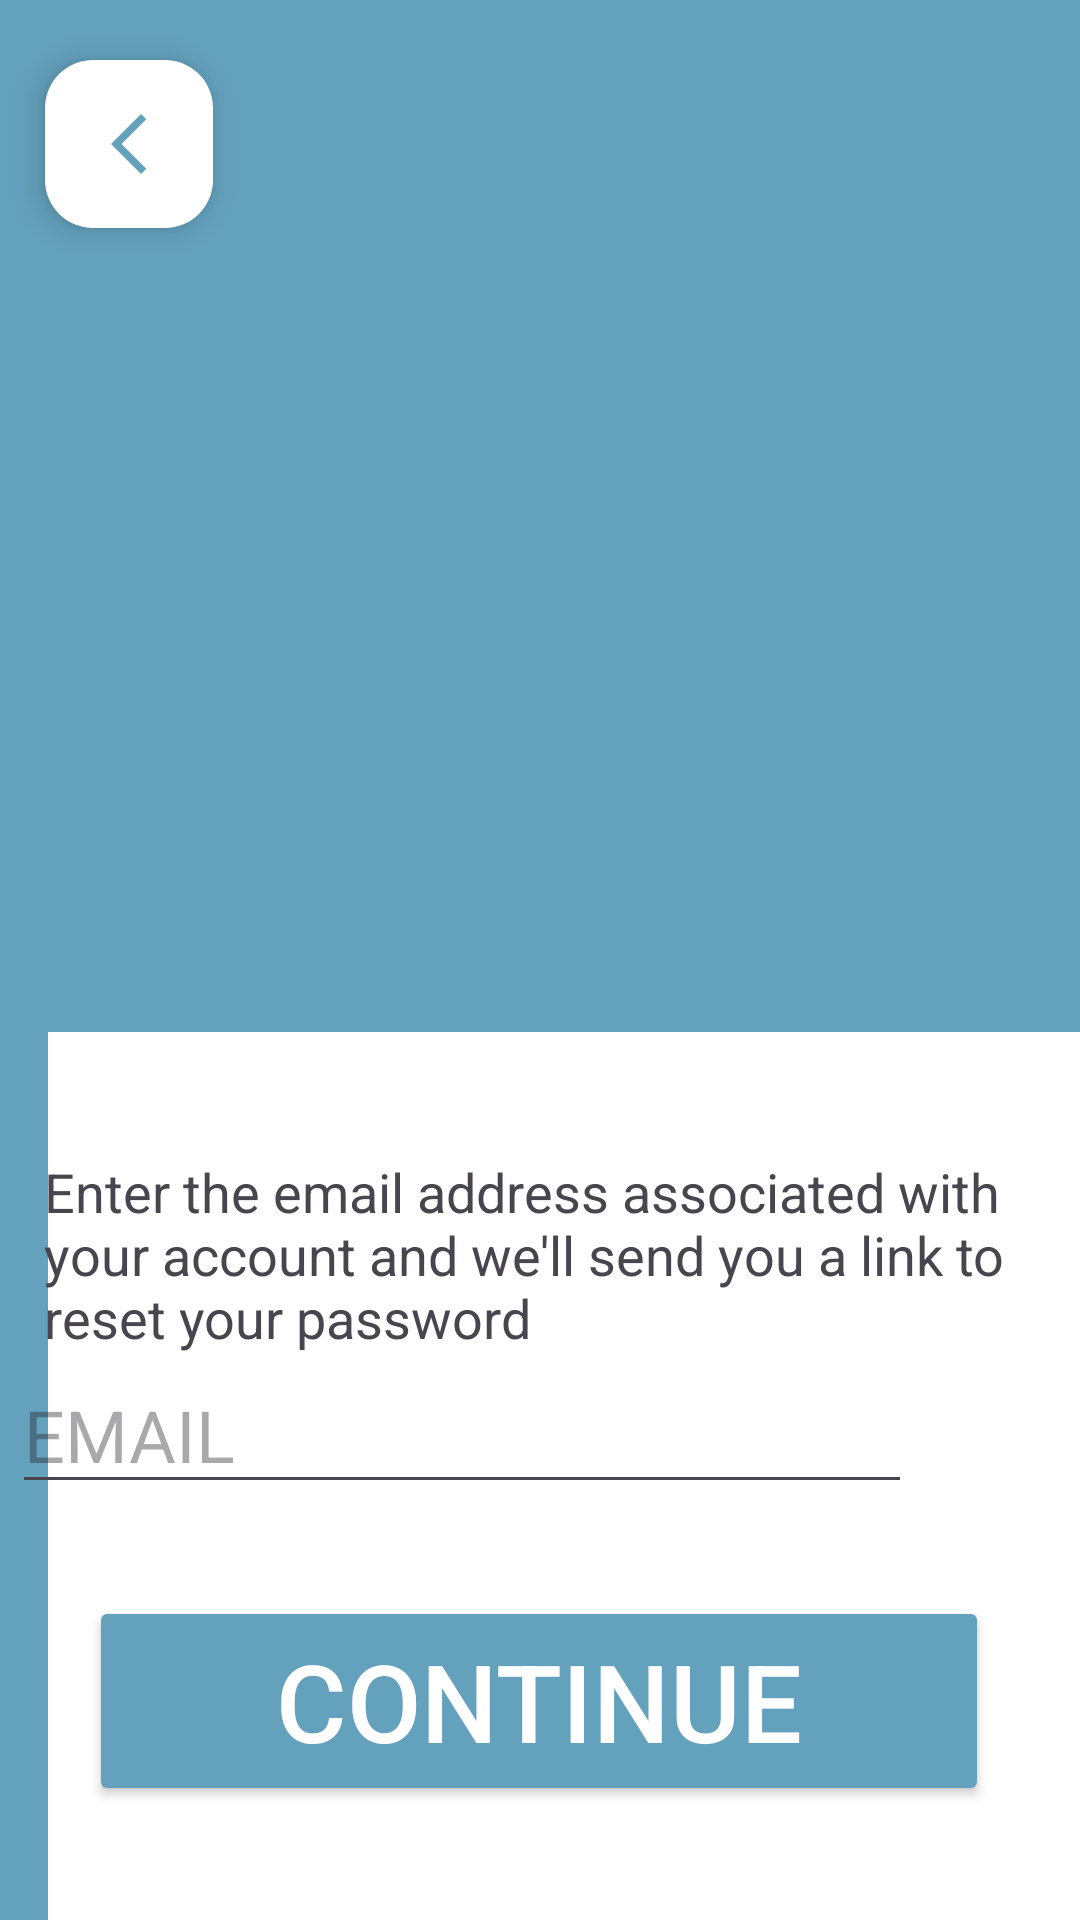

Locate icon controls on the screen. Image size 1080 × 1920, boxes as box=[x1, y1, x2, y2].
arrow back: box=[45, 60, 213, 228]
